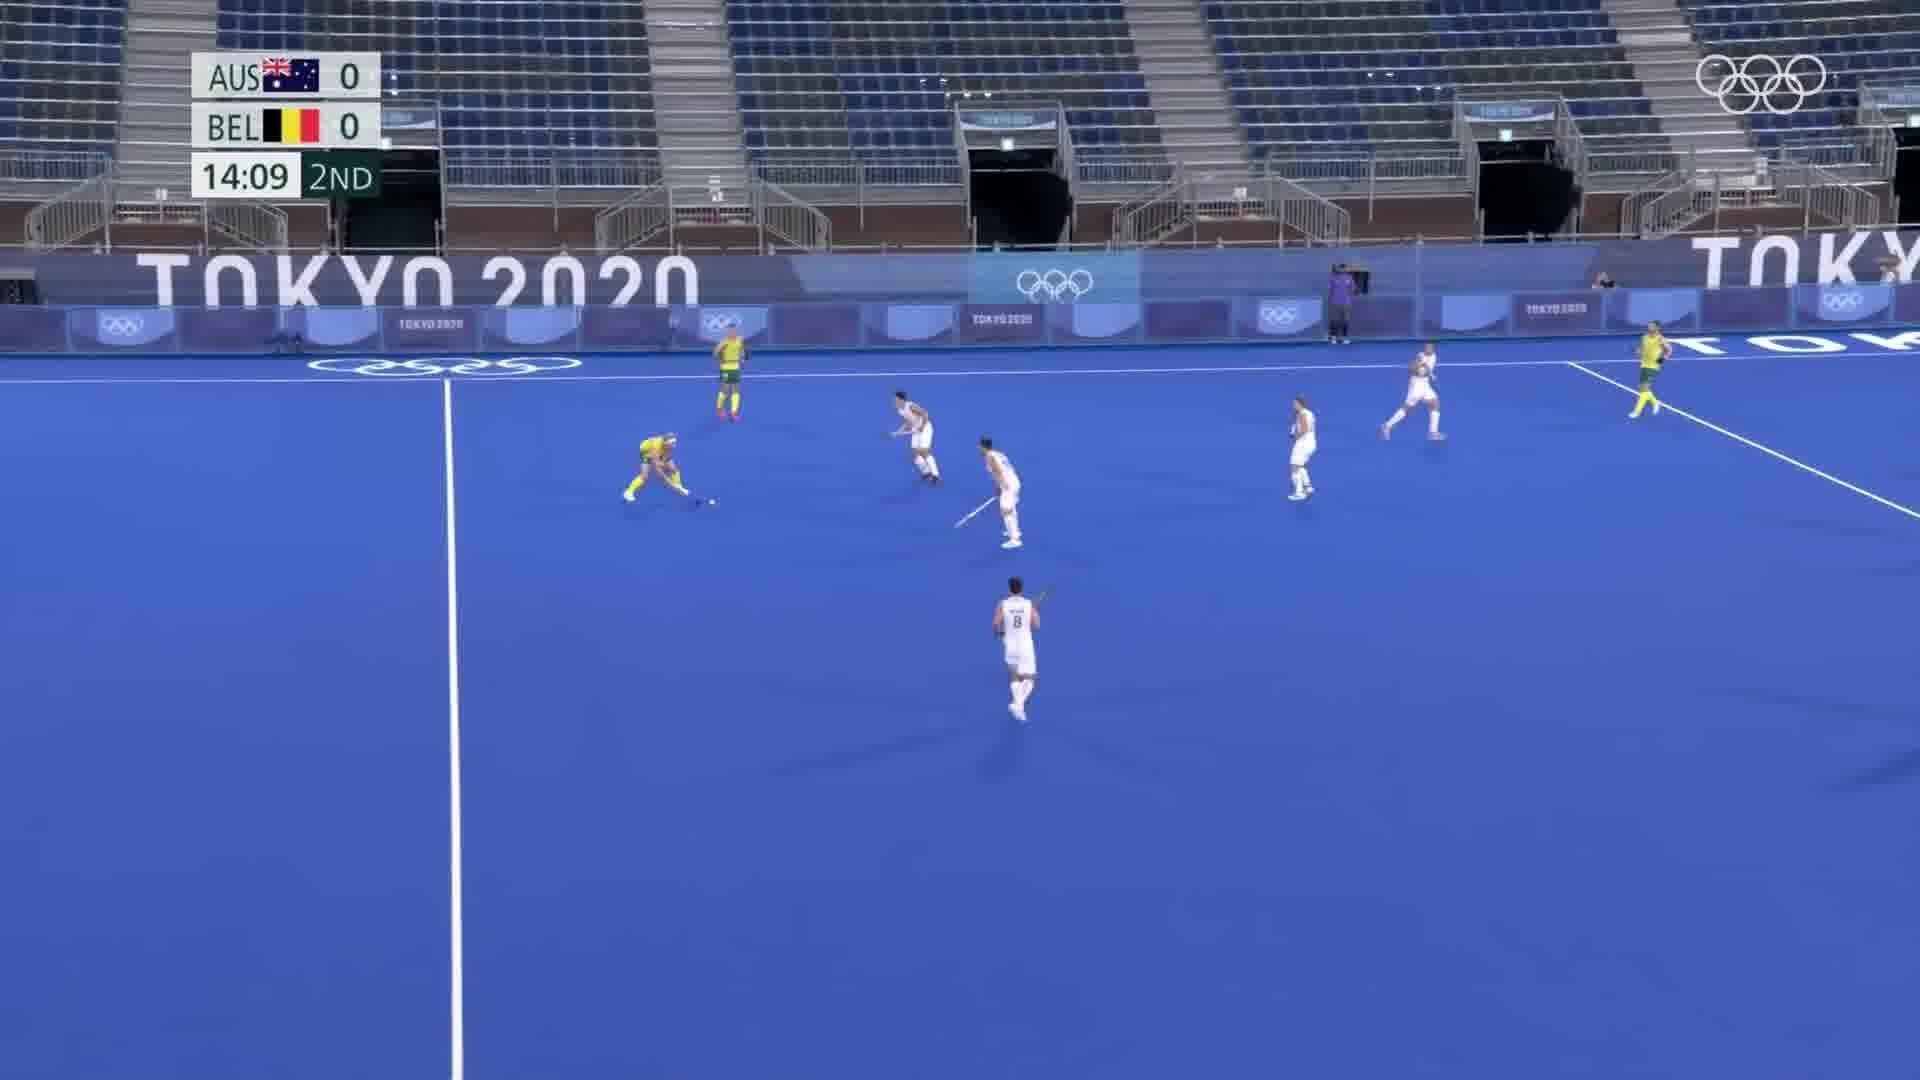ball: (704, 496, 720, 508)
